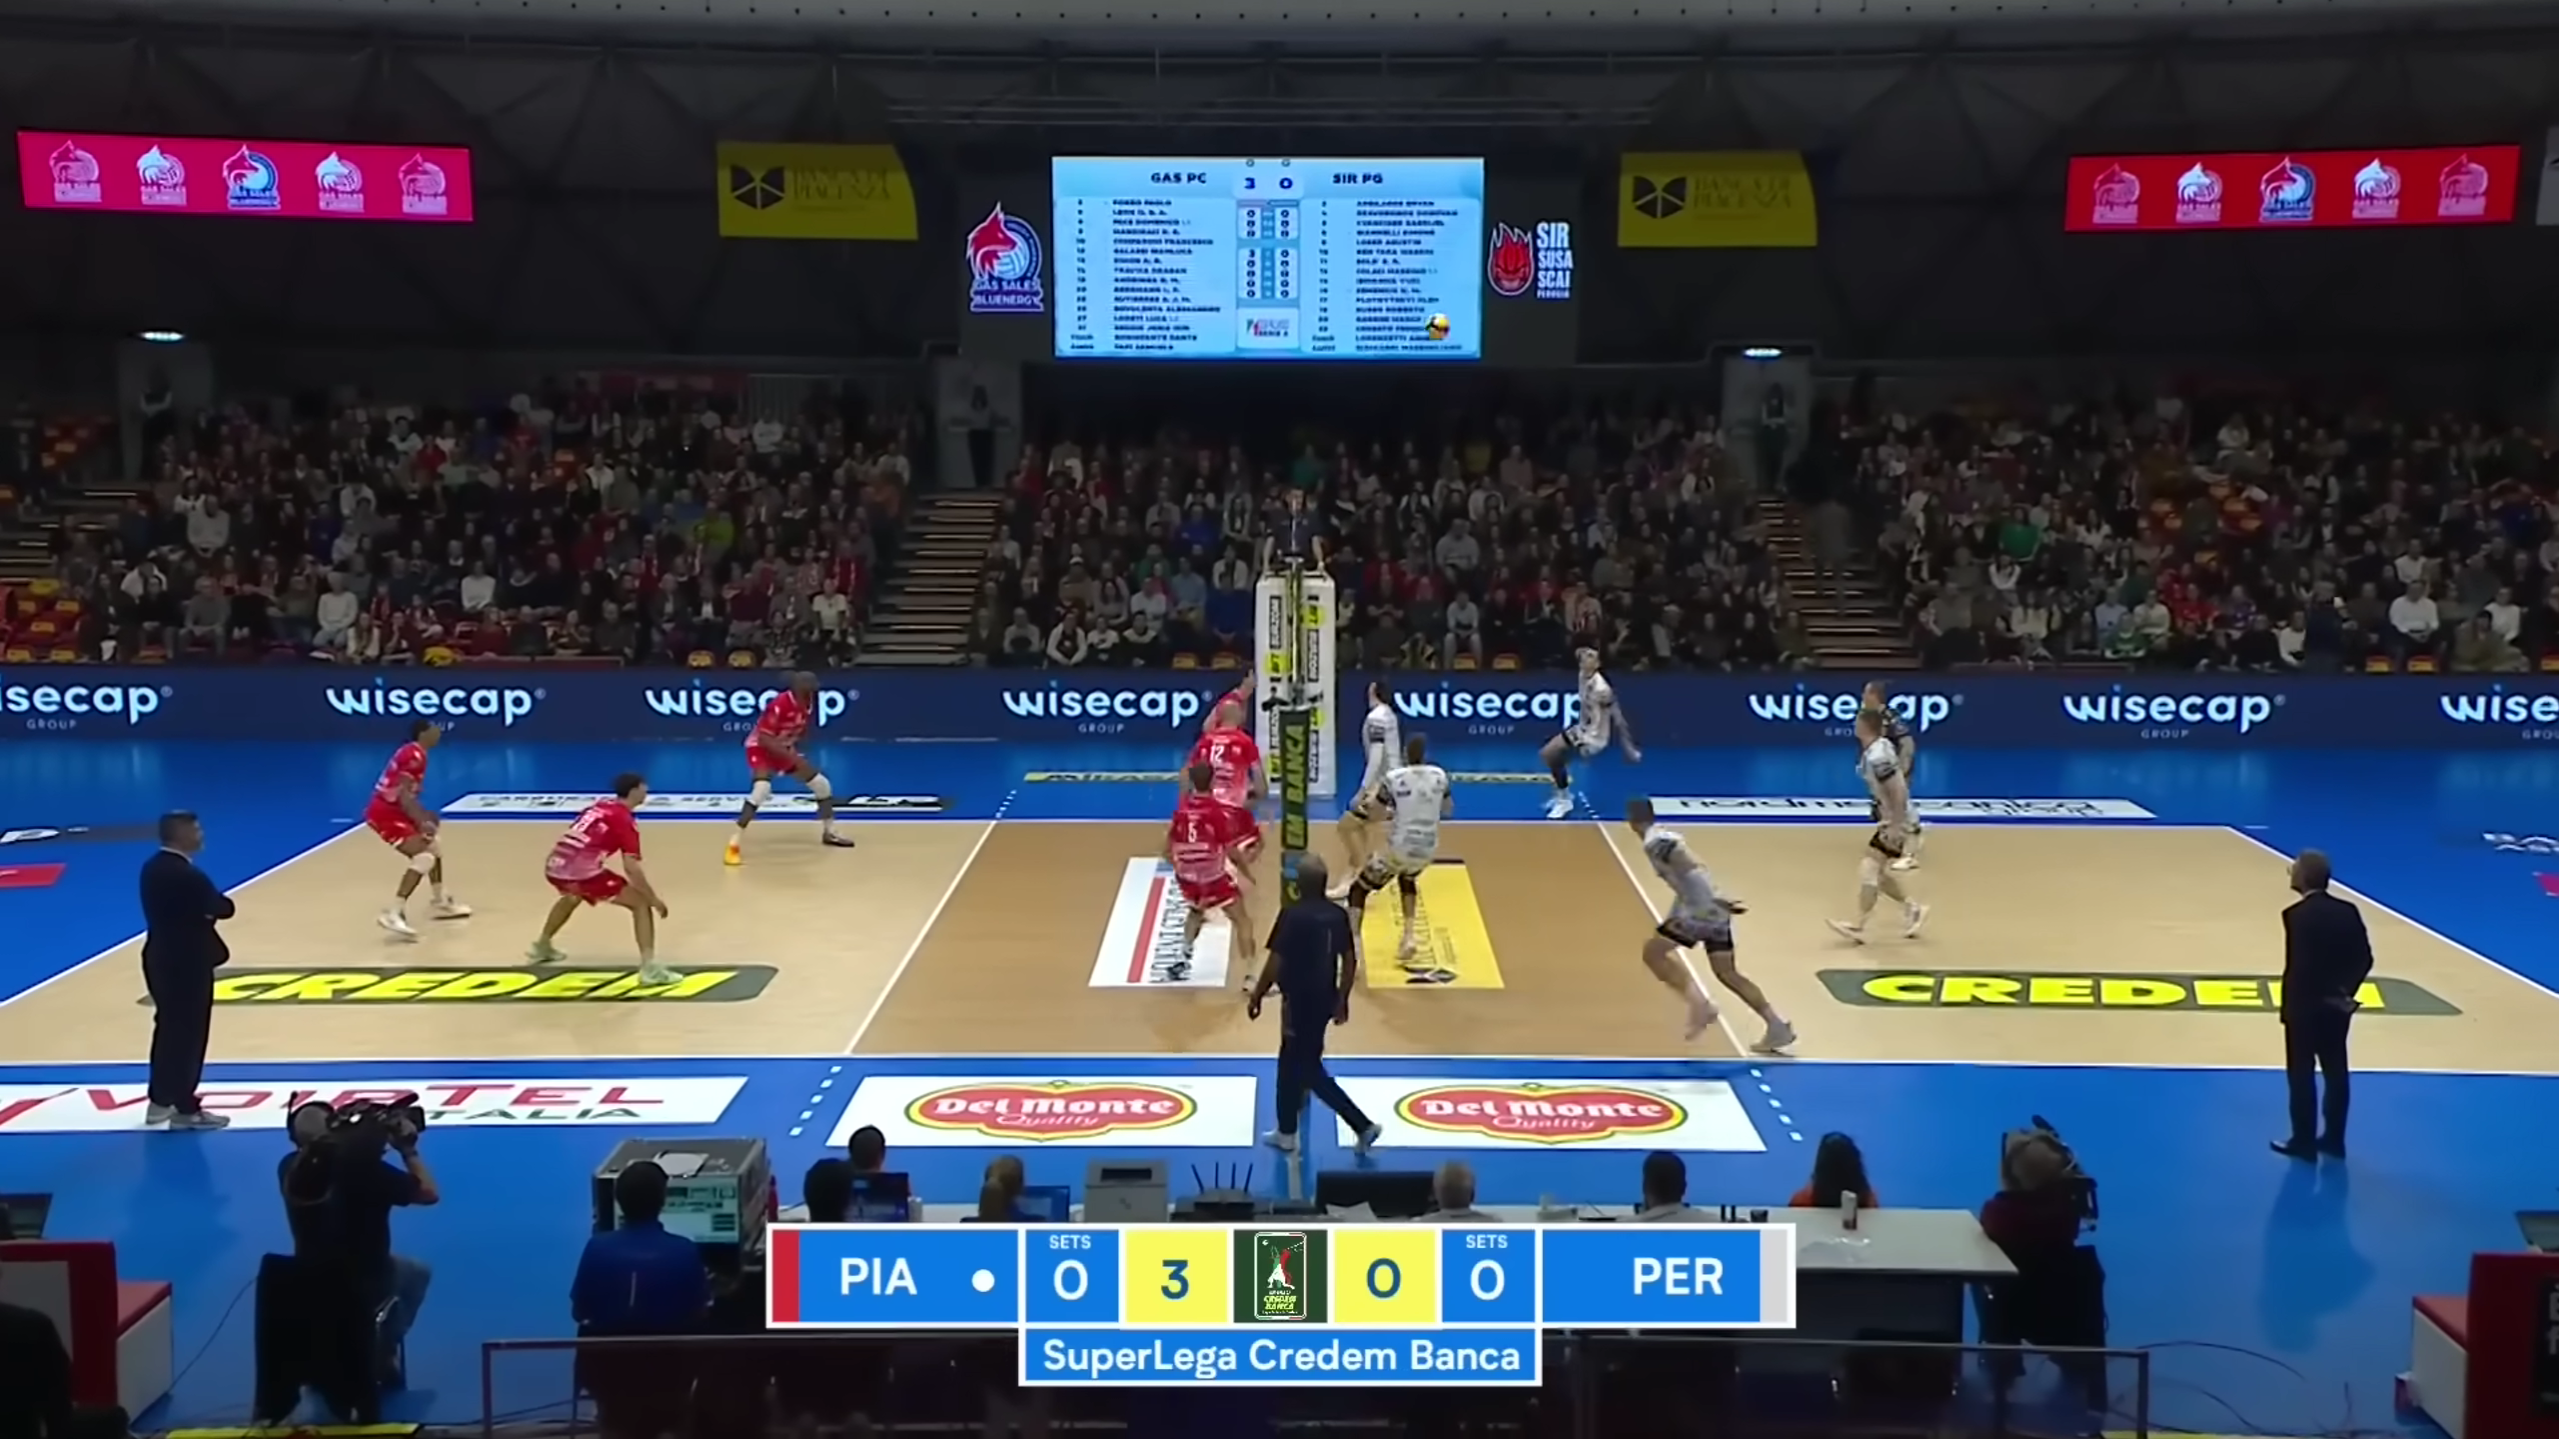Ball: (1424, 313, 1452, 341)
